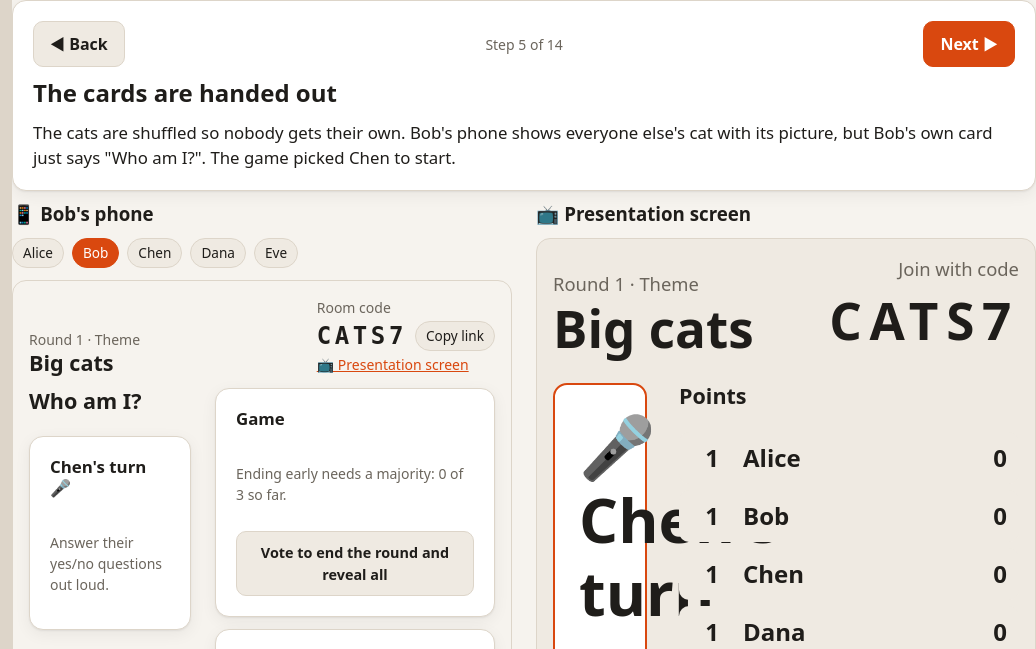
Test: ExampleGame › can show any player's phone at a step
Click the button "Eve": (276, 253) x1=254 y1=238 x2=298 y2=268
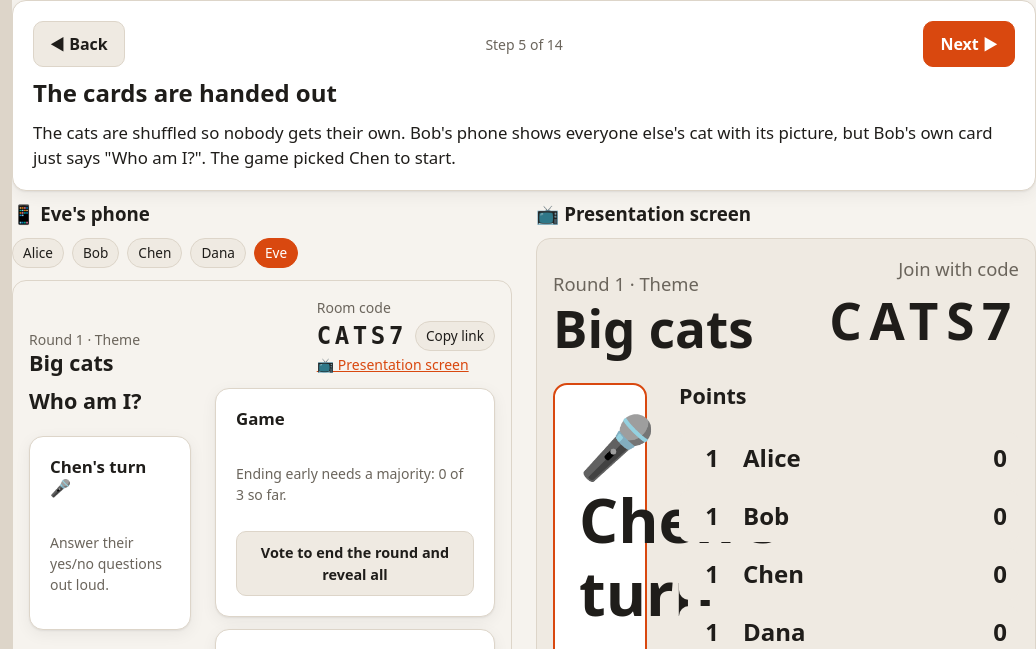
Check: the text "Who am I?" is shown, box x1=33 y1=121 x2=993 y2=169
Check: the text "📱 Eve's phone" is shown, box x1=12 y1=203 x2=150 y2=226
